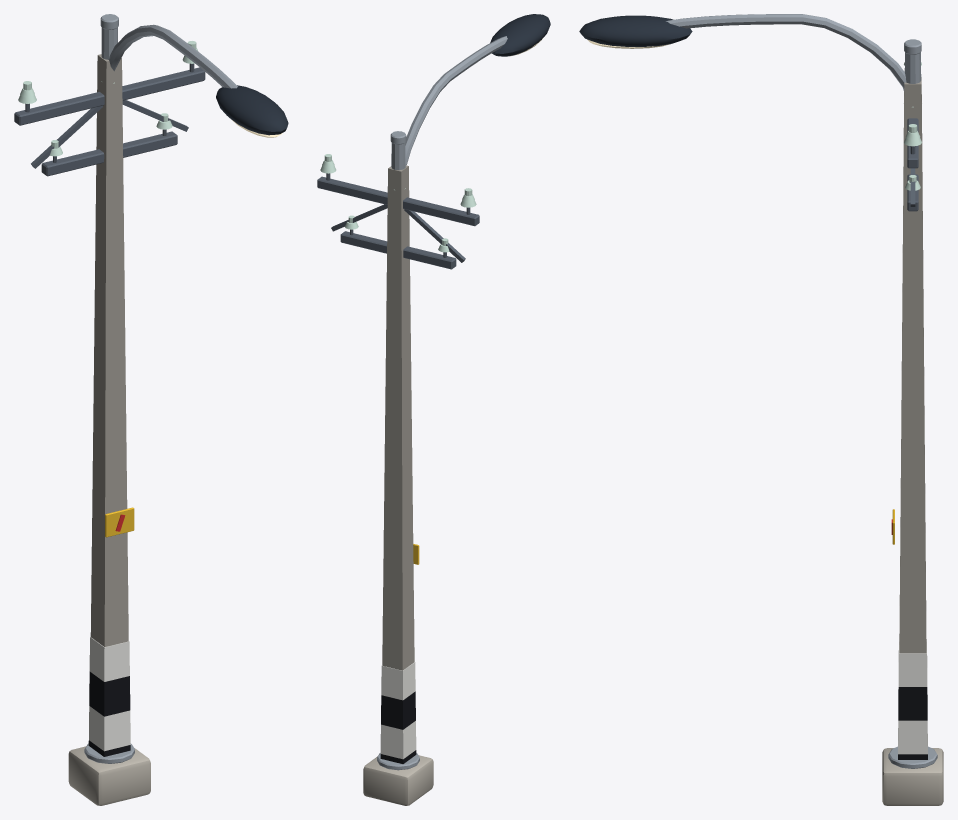
The model's file is street-furniture.glb.
3 views of the same model, side by side, from view 1: azimuth 30°, elevation 25°; view 2: azimuth 150°, elevation 25°; view 3: azimuth 270°, elevation 25° (orthographic). The views are drawn at different scales.
Parts seen in each view (by area): view 1: UtilityPole, StreetLamp; view 2: UtilityPole, StreetLamp; view 3: UtilityPole, StreetLamp.
Part boxes in pixels (x1,y1,x2,y2): UtilityPole: (14,41,205,756); StreetLamp: (68,14,288,805); UtilityPole: (317,154,479,763); StreetLamp: (363,14,550,805); UtilityPole: (891,62,927,759); StreetLamp: (579,14,943,805).
Size of the model in its own units: 1.7 by 6.99 by 2.96.
